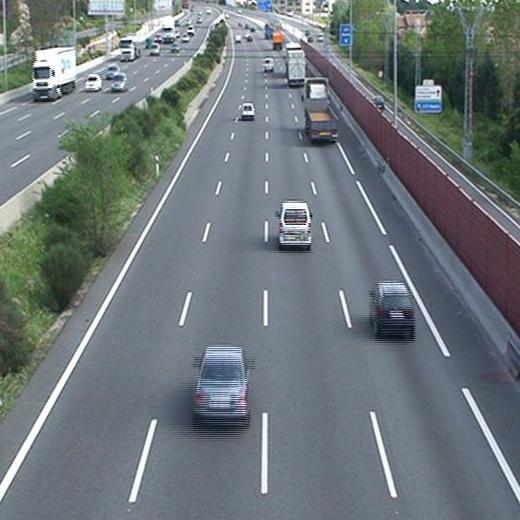car: (193, 344, 252, 427), (368, 282, 415, 333)
truck: (303, 75, 342, 143), (285, 48, 308, 85)
van: (276, 201, 313, 248), (242, 103, 253, 119), (263, 58, 274, 71)
